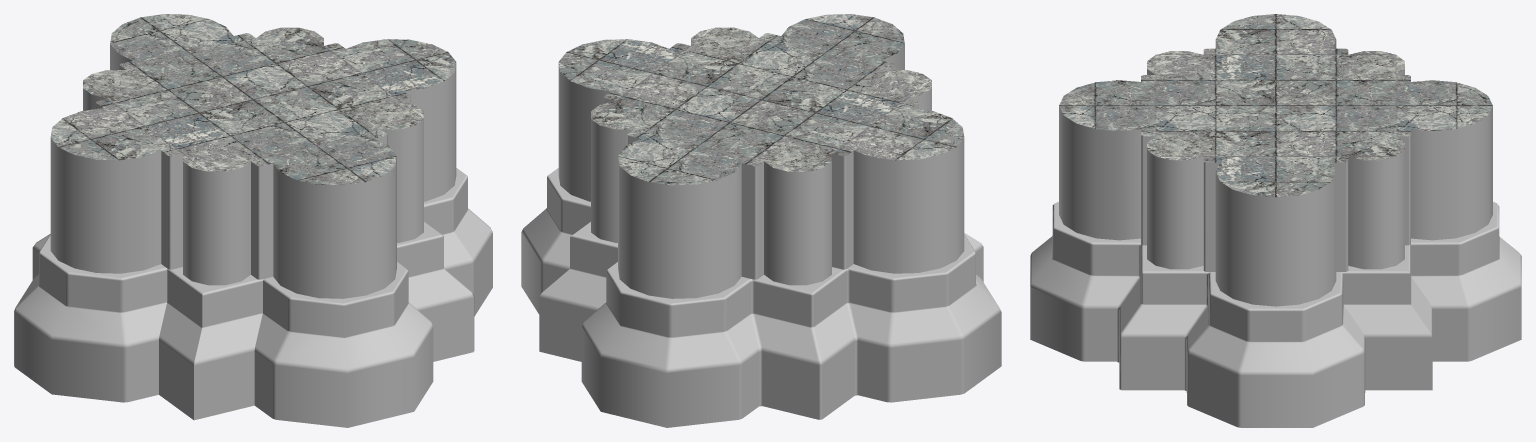
Rendered from Säulenfuß_4m.gltf.
3 views of the same model, side by side, from view 1: azimuth 30°, elevation 25°; view 2: azimuth 150°, elevation 25°; view 3: azimuth 270°, elevation 25° (orthographic). The views are drawn at different scales.
Visible parts, largest first — view 1: Säulenfuß_4m; view 2: Säulenfuß_4m; view 3: Säulenfuß_4m.
Boxes of the visible parts, x1,y1,x2,y2 form: Säulenfuß_4m: (14, 14, 492, 427); Säulenfuß_4m: (521, 14, 1001, 427); Säulenfuß_4m: (1030, 14, 1521, 427).
Size of the model in its own units: 4.08 by 2 by 4.08.
